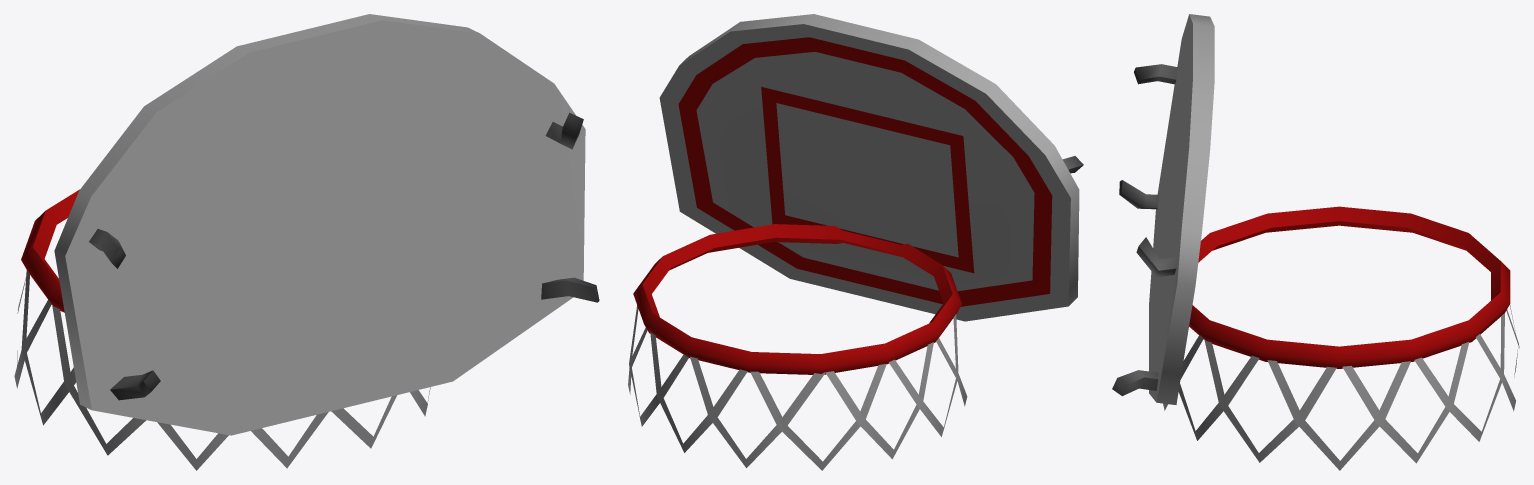
The model's file is hat_premium_Hoop.glb.
3 renders of one model, left to right at view 1: azimuth 30°, elevation 25°; view 2: azimuth 150°, elevation 25°; view 3: azimuth 270°, elevation 25°, orthographic. The views are drawn at different scales.
Visible parts, largest first — view 1: hat_premium_Hoop; view 2: hat_premium_Hoop; view 3: hat_premium_Hoop.
Part boxes in pixels (box(x1,y1,x2,y2)): hat_premium_Hoop: box(14, 14, 599, 470); hat_premium_Hoop: box(628, 14, 1083, 470); hat_premium_Hoop: box(1112, 14, 1519, 470).
Bounding box in the file's own units: 0.7147 × 0.5375 × 0.5769.
